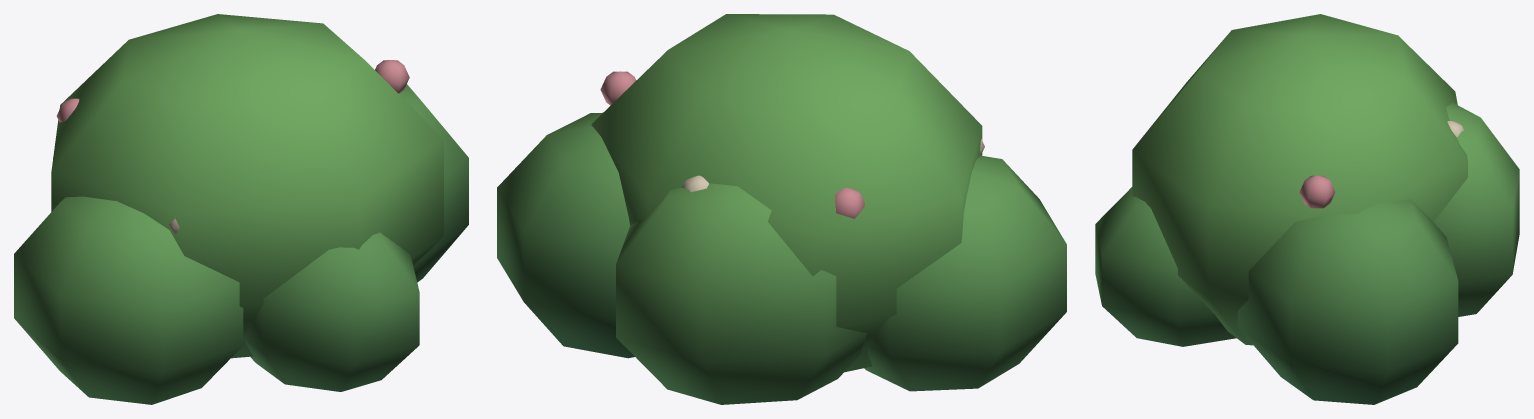
File: bush_medium.glb
3 renders of one model, left to right at view 1: azimuth 30°, elevation 25°; view 2: azimuth 150°, elevation 25°; view 3: azimuth 270°, elevation 25°, orthographic. The views are drawn at different scales.
Parts seen in each view (by area): view 1: bush_medium; view 2: bush_medium; view 3: bush_medium.
Part boxes in pixels (x1,y1,x2,y2): bush_medium: [14, 14, 468, 404]; bush_medium: [497, 14, 1066, 404]; bush_medium: [1095, 14, 1519, 404].
Bounding box in the file's own units: 1.1 × 0.73 × 0.9406.
